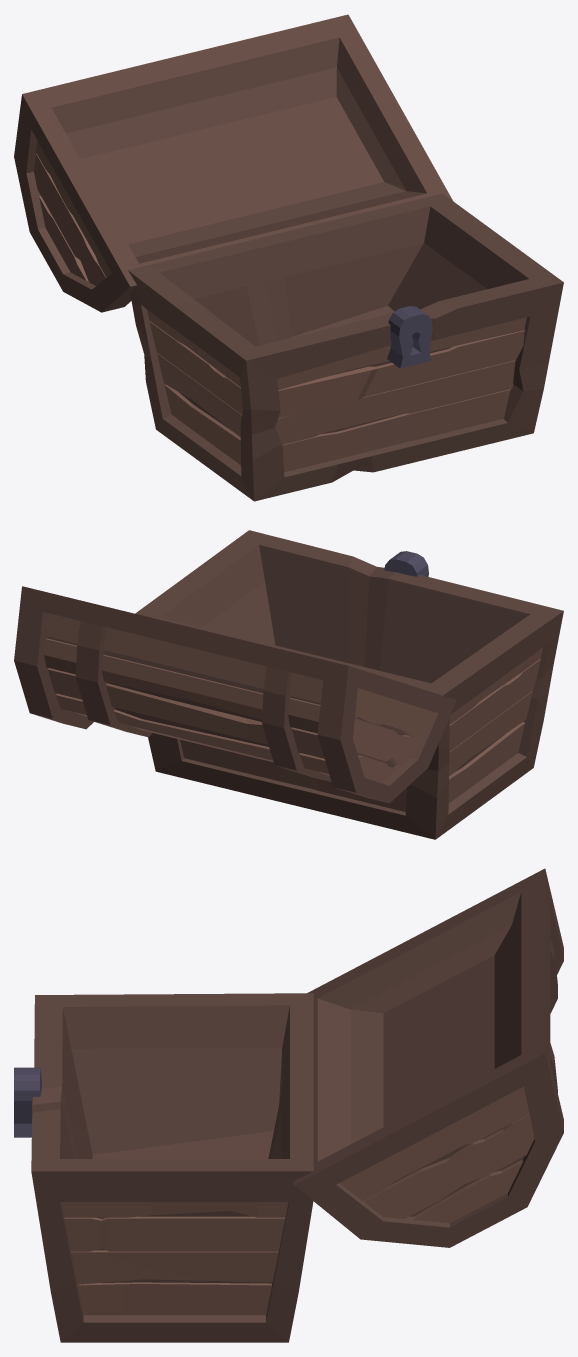
Rendered from Chest_Gold.fbx.
3 renders of one model, top to bottom at view 1: azimuth 30°, elevation 25°; view 2: azimuth 150°, elevation 25°; view 3: azimuth 270°, elevation 25°, orthographic. The views are drawn at different scales.
Visible parts, largest first — view 1: Chest_Base, Chest_Top; view 2: Chest_Base, Chest_Top; view 3: Chest_Base, Chest_Top.
Part boxes in pixels (x1=…): Chest_Base: x1=128, y1=193, x2=563, y2=501; Chest_Top: x1=14, y1=14, x2=452, y2=312; Chest_Base: x1=135, y1=530, x2=563, y2=839; Chest_Top: x1=14, y1=586, x2=456, y2=803; Chest_Base: x1=14, y1=993, x2=313, y2=1342; Chest_Top: x1=293, y1=868, x2=563, y2=1247.
Size of the model in its own units: 118 by 89.94 by 148.
